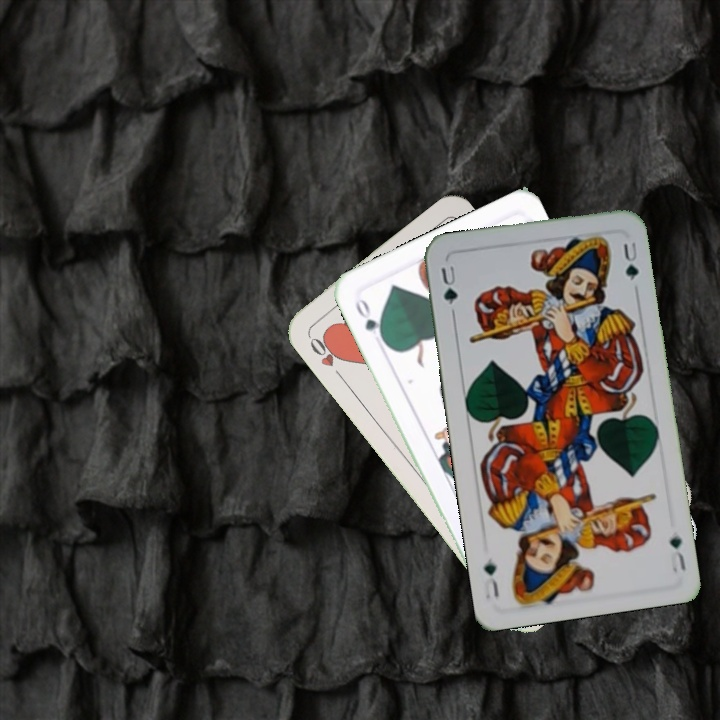GO: (351, 293, 388, 346)
GU: (437, 261, 461, 307), (665, 531, 689, 576)
HO: (304, 330, 346, 382)
